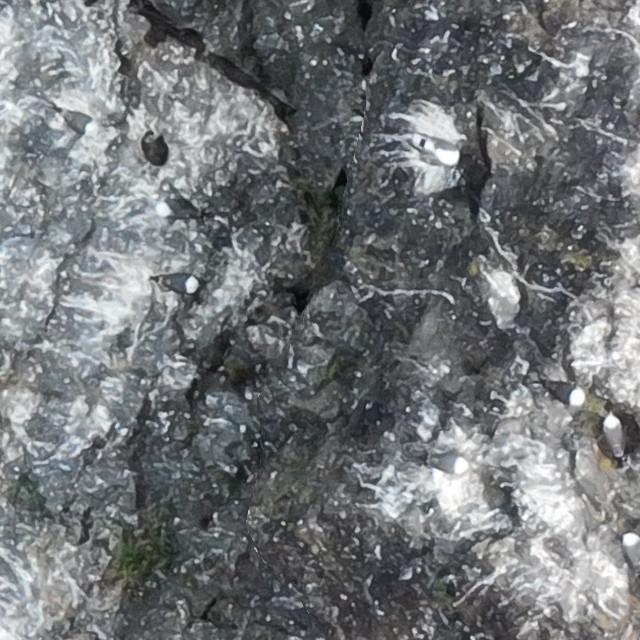umineko: (422, 136, 462, 165), (156, 199, 202, 220), (544, 384, 582, 405), (58, 111, 94, 132), (604, 417, 623, 455), (428, 453, 467, 471), (160, 274, 197, 292), (623, 535, 639, 566)
